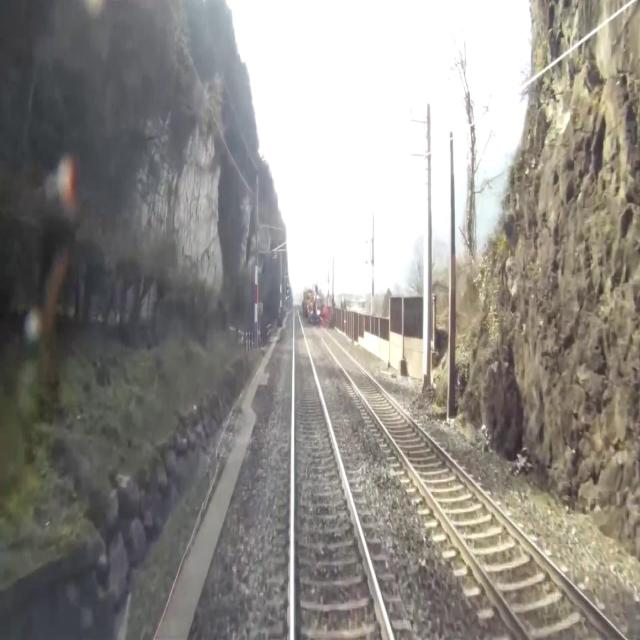rail-track: (316, 325, 622, 639), (295, 305, 391, 639)
